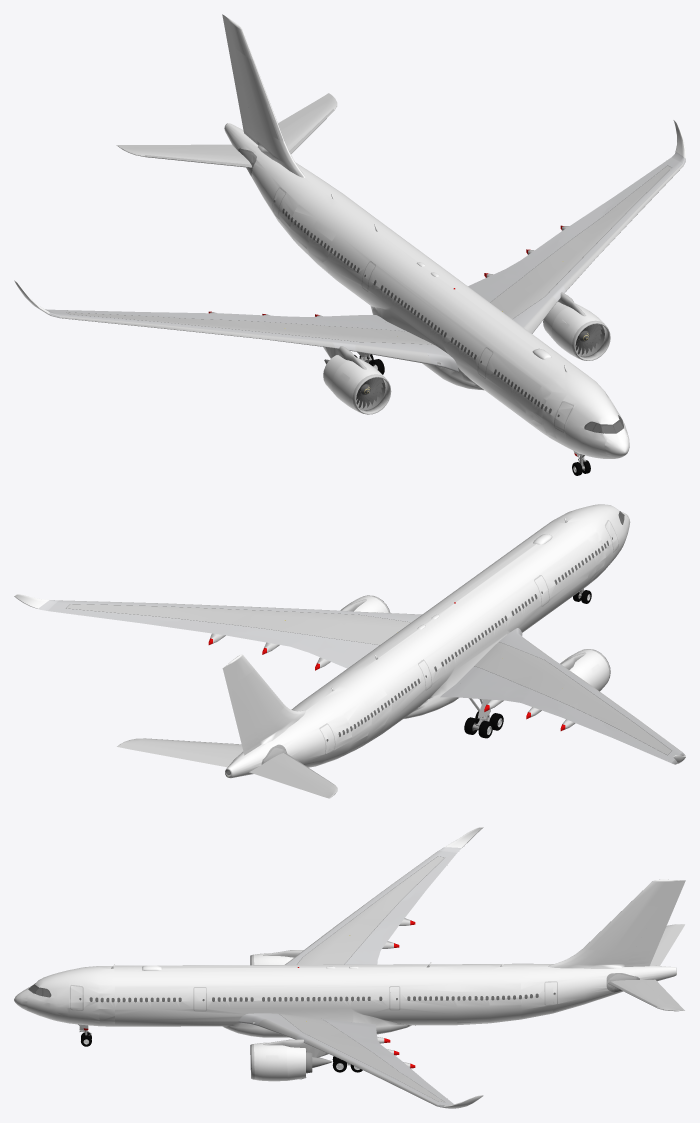
File: a330neo.glb
The picture shows the model from 3 angles, top to bottom: view 1: azimuth 30°, elevation 25°; view 2: azimuth 150°, elevation 25°; view 3: azimuth 270°, elevation 25°; orthographic projection. The views are drawn at different scales.
Visible parts, largest first — view 1: Material2 (×5), Material3 (×8); view 2: Material2 (×4), Material3 (×5); view 3: Material2 (×5), Material3 (×6).
Part boxes in pixels (<box>): Material2 (×5): <box>222,14,628,458</box>; Material3 (×8): <box>45,93,685,372</box>; Material2 (×4): <box>222,504,629,778</box>; Material3 (×5): <box>38,600,685,798</box>; Material2 (×5): <box>27,879,685,1081</box>; Material3 (×6): <box>238,847,684,1108</box>.
Bounding box in the file's own units: 2362 × 676 × 2500.
Materials: 47 (3 with a texture image).
